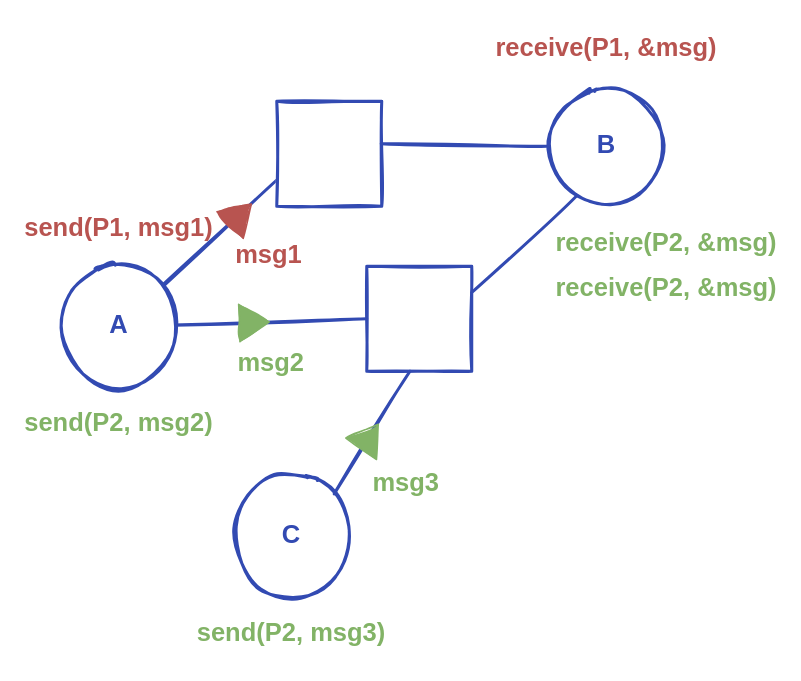
The diagram is 801 pixels wide and 681 high, and some of its shapes have lost their labels. Each missing label, with the box of its shape:
P1: (274, 99, 382, 207)
P2: (364, 264, 472, 372)
